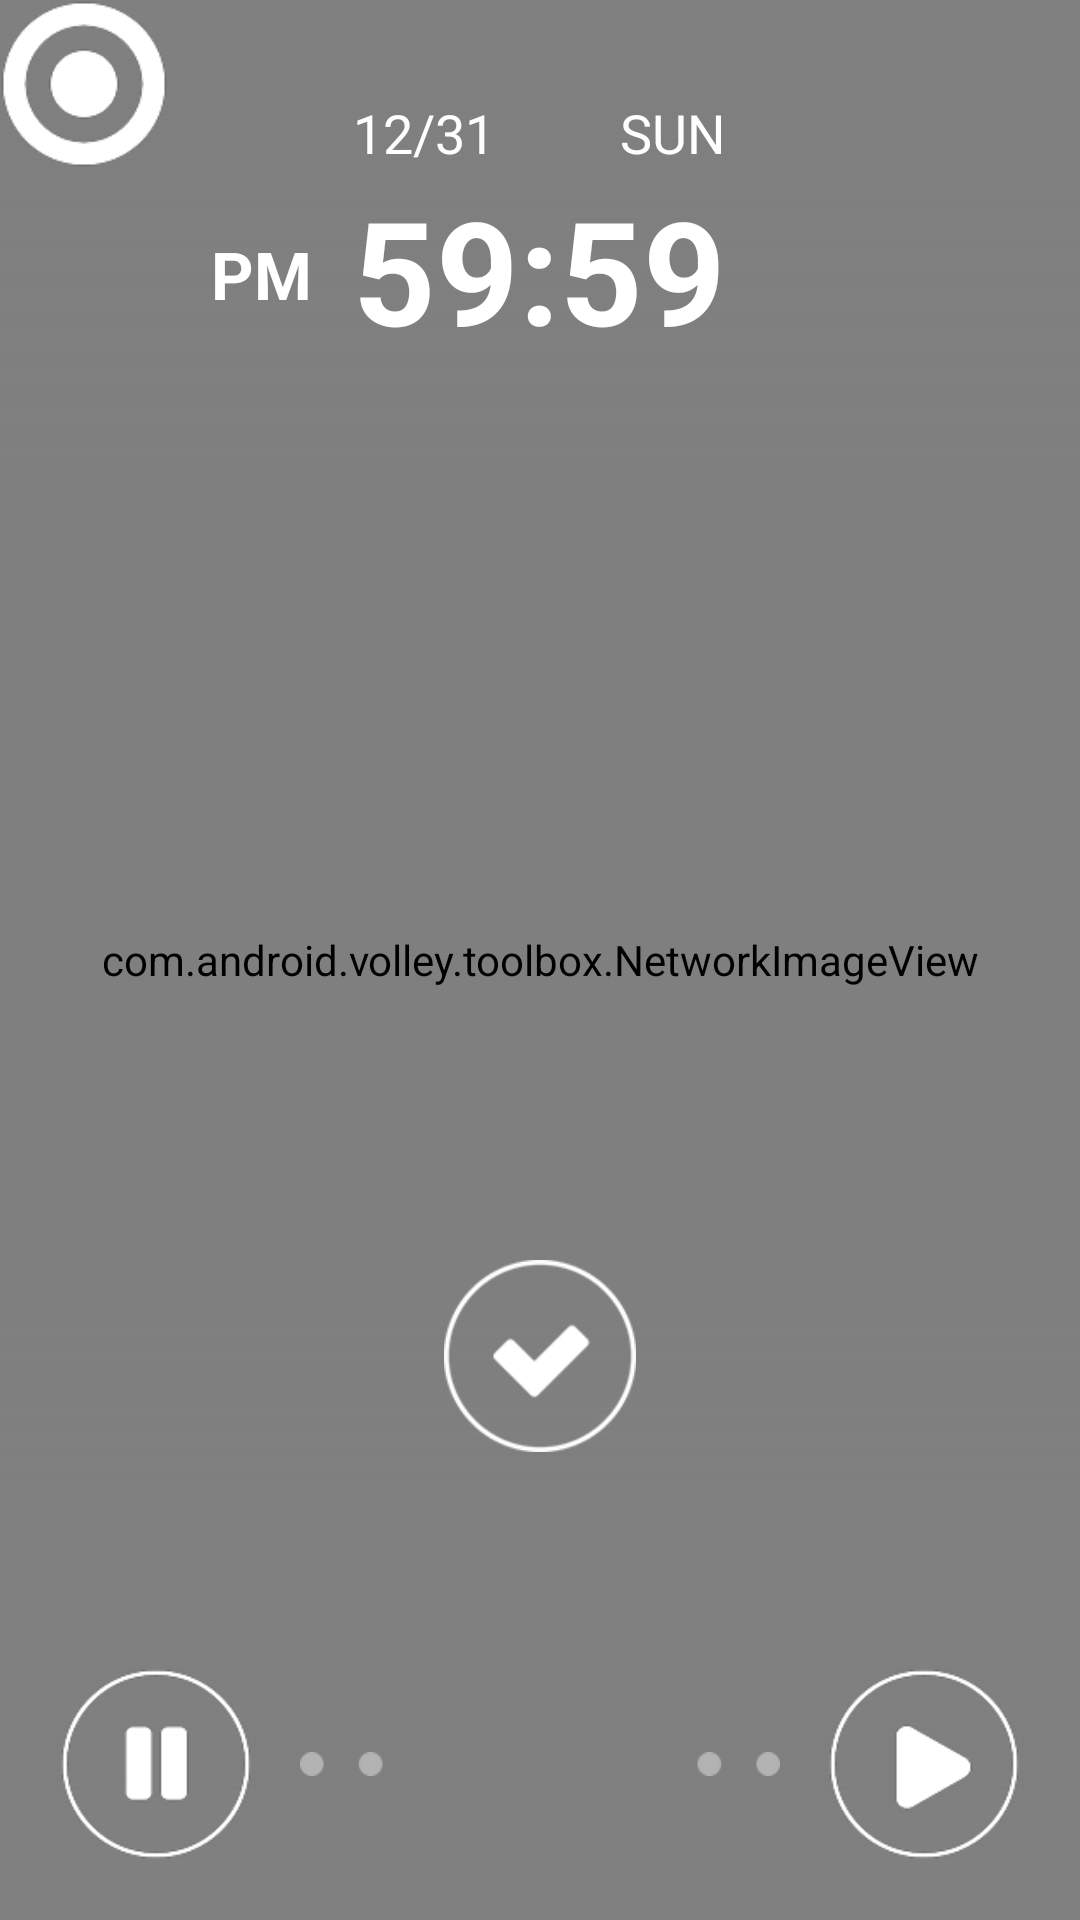

Where to tap for icons on this 1080*1920 app screen, as (x=x, y=y):
slide start: (x=924, y=1764)
slide stop: (x=156, y=1764)
